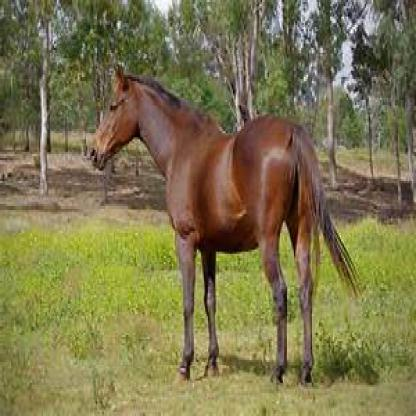horse: (91, 58, 333, 383)
